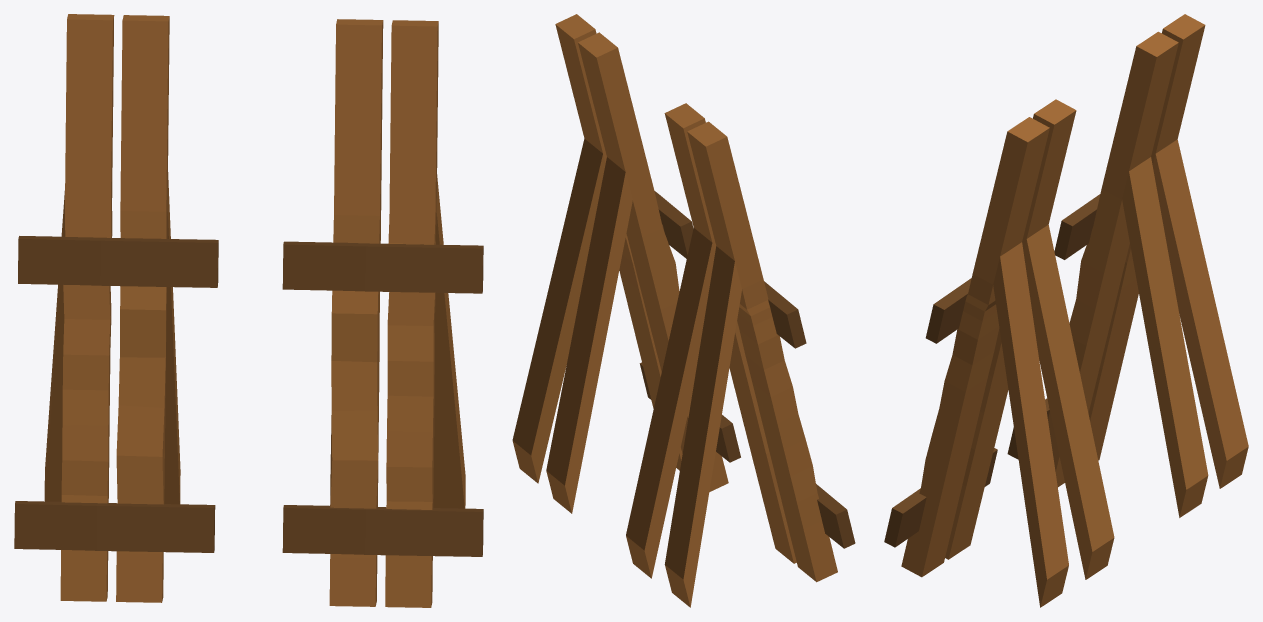
The model's file is blancos.fbx.
The picture shows the model from 3 angles, left to right: view 1: azimuth 30°, elevation 25°; view 2: azimuth 150°, elevation 25°; view 3: azimuth 270°, elevation 25°; orthographic projection. The views are drawn at different scales.
Visible parts, largest first — view 1: Cube.043; view 2: Cube.043; view 3: Cube.043.
Part boxes in pixels (x1,y1,x2,y2): Cube.043: (14, 14, 483, 607); Cube.043: (512, 14, 855, 607); Cube.043: (884, 14, 1248, 607).
Bounding box in the file's own units: 119 × 143 × 100.
